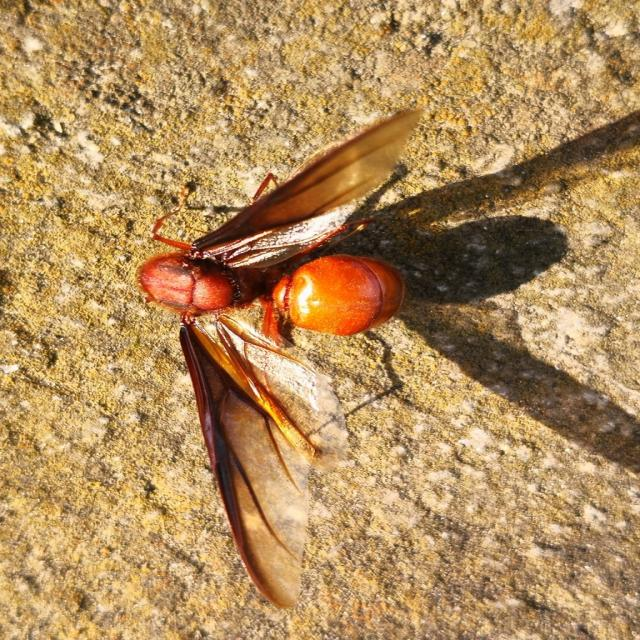Dead-Male-Alate: (132, 106, 425, 610)
